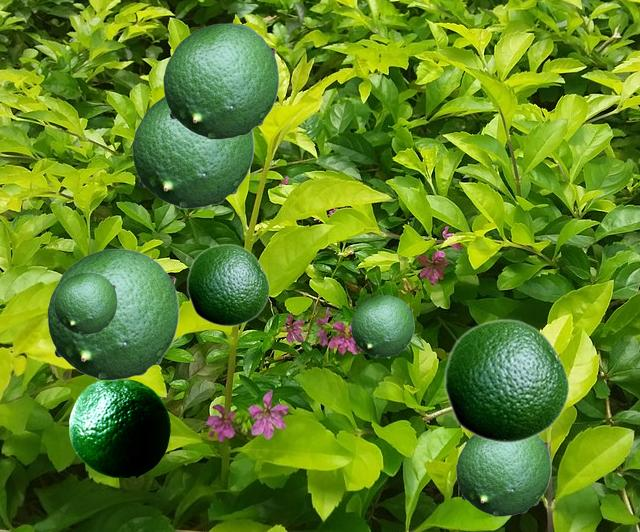calamansi: (47, 248, 178, 379), (443, 318, 569, 443), (132, 96, 253, 207), (163, 23, 278, 138), (69, 379, 169, 476), (456, 436, 550, 515), (186, 243, 269, 326), (351, 295, 413, 356), (54, 272, 116, 333)
